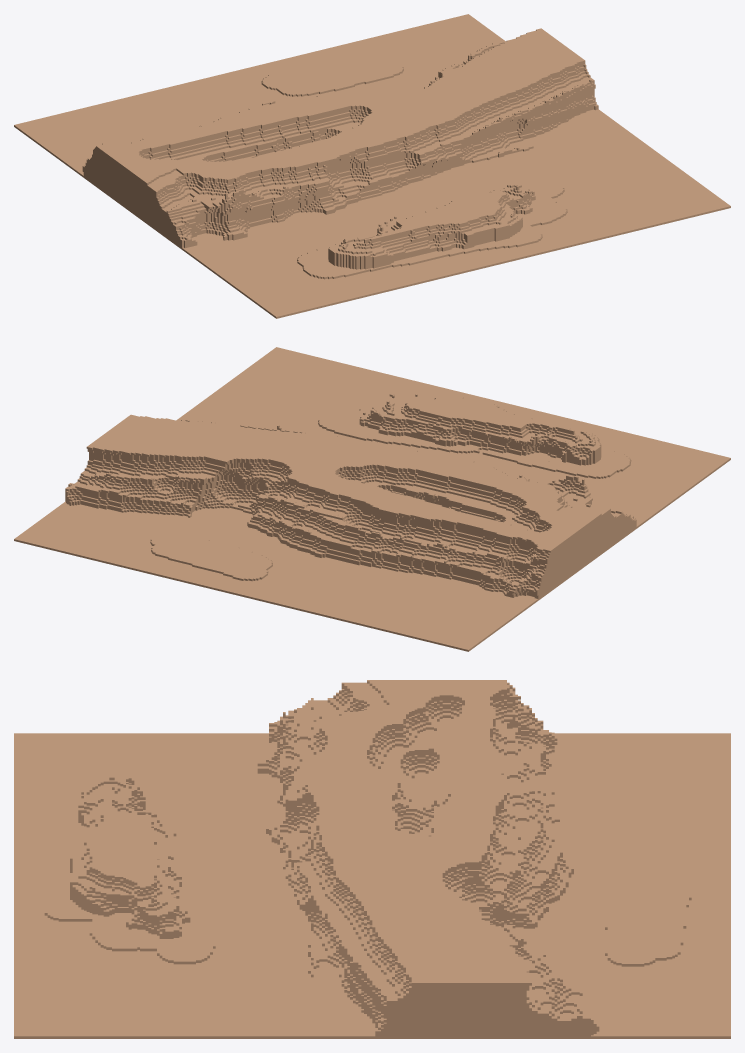
File: groundBorder_07.vox.obj
The picture shows the model from 3 angles, top to bottom: view 1: azimuth 30°, elevation 25°; view 2: azimuth 150°, elevation 25°; view 3: azimuth 270°, elevation 25°; orthographic projection. The views are drawn at different scales.
Bounding box in the file's own units: 25.6 × 2.2 × 25.6.
1 material, 1 textured.
